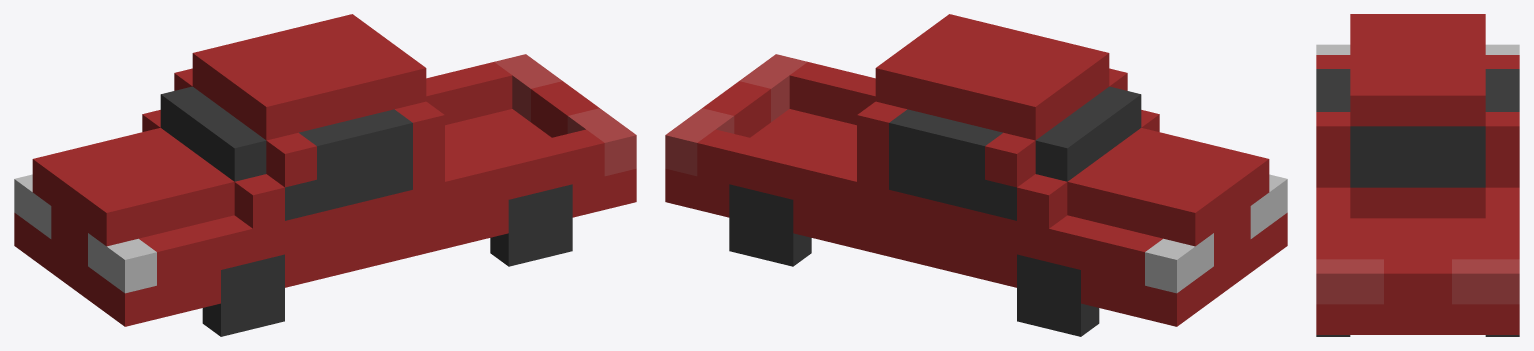
File: car-v5-red.gltf
The picture shows the model from 3 angles, left to right: view 1: azimuth 30°, elevation 25°; view 2: azimuth 150°, elevation 25°; view 3: azimuth 270°, elevation 25°; orthographic projection. The views are drawn at different scales.
Visible parts, largest first — view 1: model, wheels; view 2: model, wheels; view 3: model.
Part boxes in pixels (x1,y1,x2,y2): model: [14, 14, 636, 326]; wheels: [202, 184, 572, 336]; model: [665, 14, 1287, 326]; wheels: [729, 184, 1099, 336]; model: [1316, 14, 1519, 334].
Bounding box in the file's own units: 1.6 × 0.6 × 0.6.
2 materials, 2 textured.
